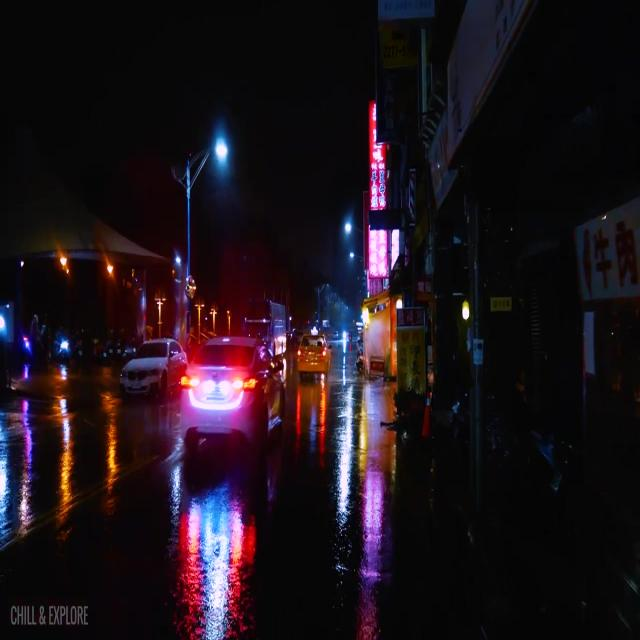Car: (180, 335, 285, 449), (119, 337, 186, 400), (295, 327, 332, 375)
